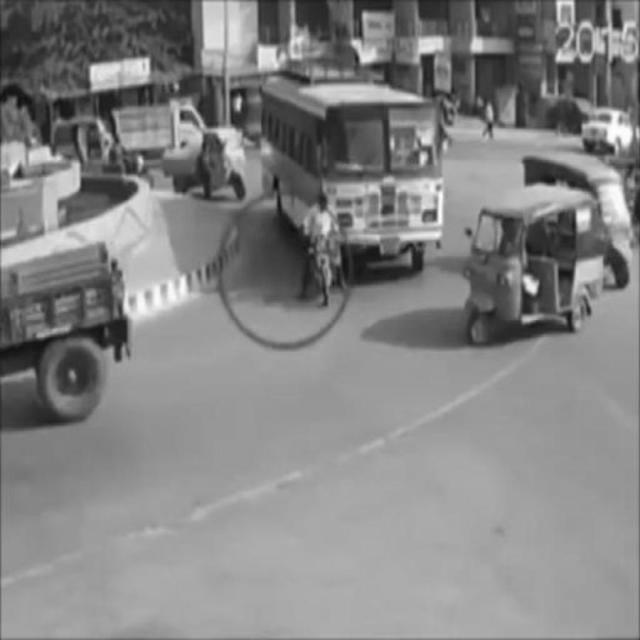vehicle: (262, 76, 442, 266), (460, 191, 607, 337), (157, 122, 255, 206), (307, 192, 344, 302)
